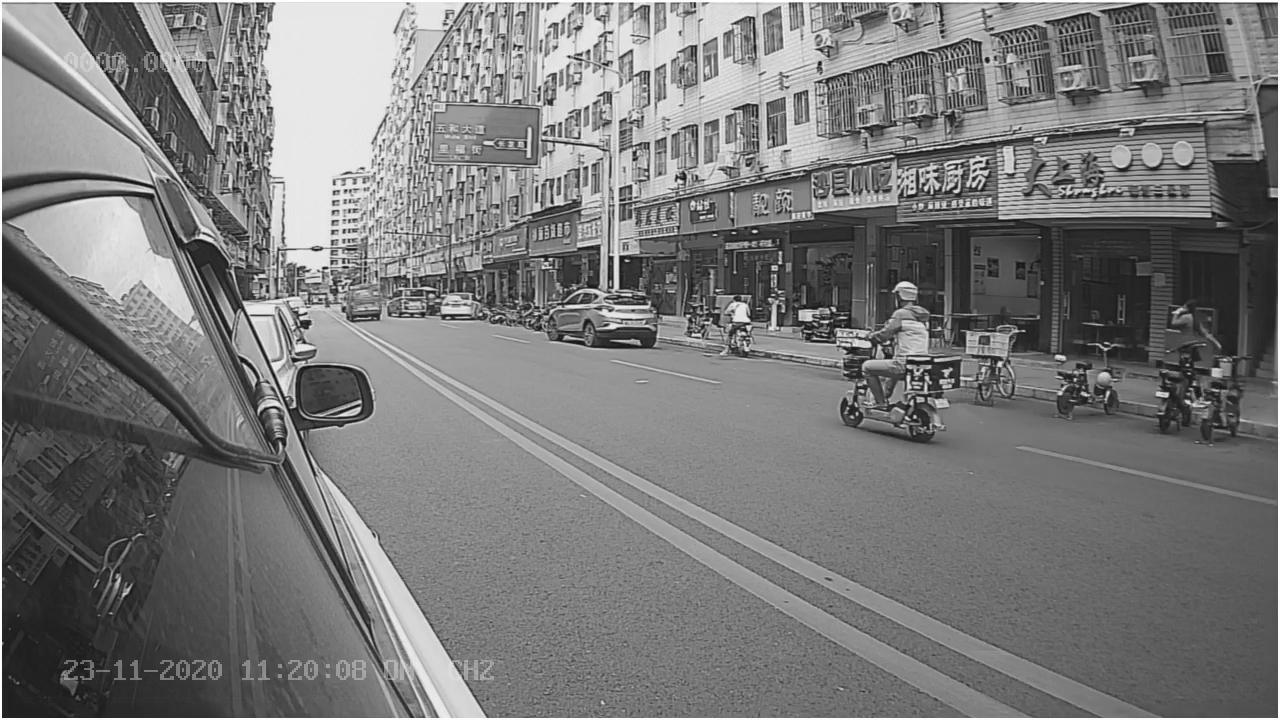person: (872, 273, 933, 355)
